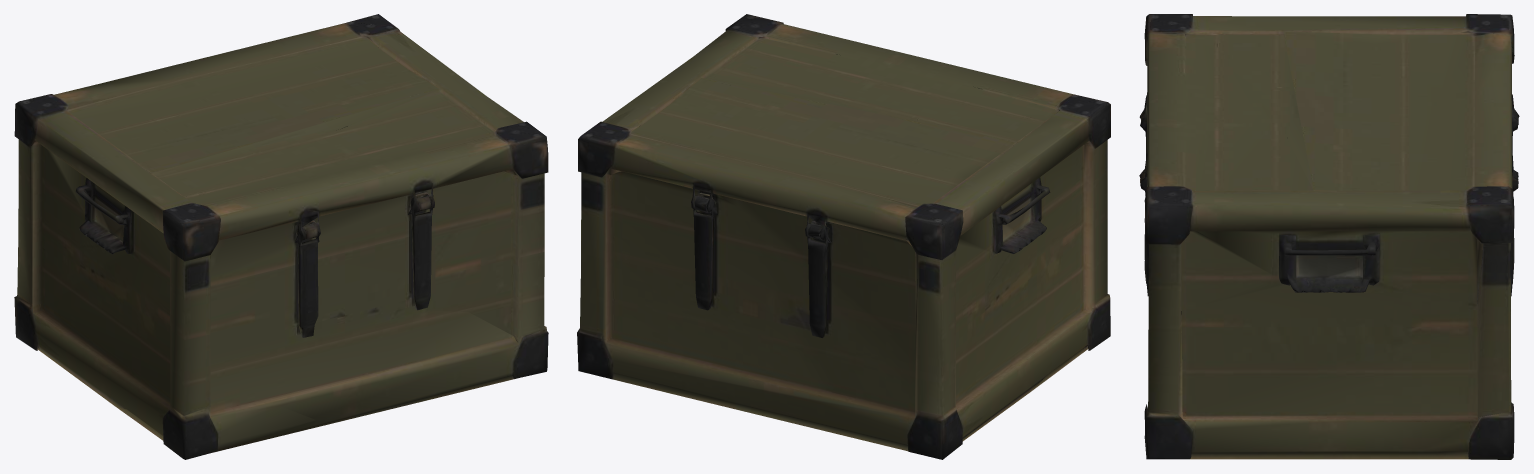
Rendered from munitiekist_meshy.glb.
The picture shows the model from 3 angles, left to right: view 1: azimuth 30°, elevation 25°; view 2: azimuth 150°, elevation 25°; view 3: azimuth 270°, elevation 25°; orthographic projection. The views are drawn at different scales.
Visible parts, largest first — view 1: Munitiekist; view 2: Munitiekist; view 3: Munitiekist.
Boxes of the visible parts, box(x1,y1,x2,y2) form: Munitiekist: box(14, 14, 548, 459); Munitiekist: box(577, 14, 1110, 459); Munitiekist: box(1139, 14, 1519, 459).
Size of the model in its own units: 0.6997 by 0.4275 by 0.5713.
1 material, 1 textured.
